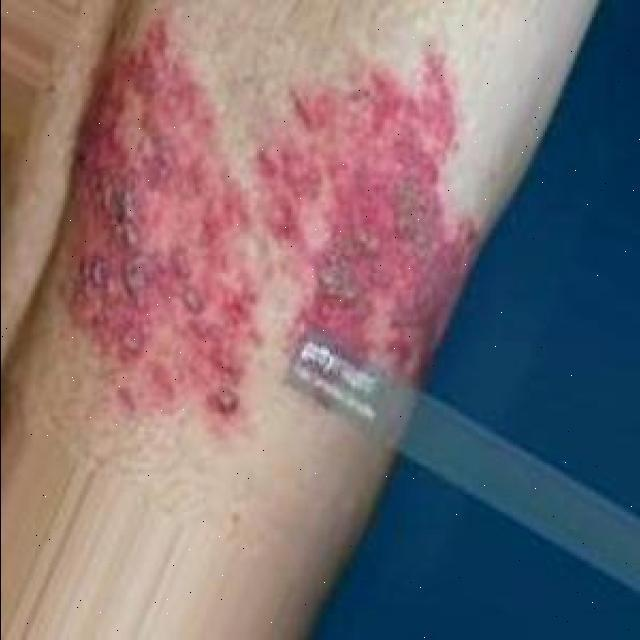Shingles: (78, 25, 262, 430), (268, 41, 476, 390)
